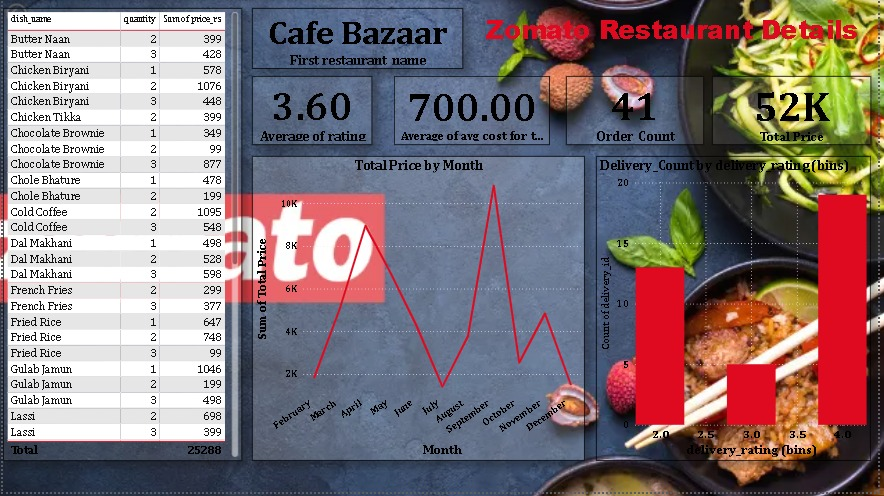

Layout of this report page (visuals, bound fields, positions):
{"tool":"powerbi","page":{"name":"Page 5","canvas":[1280,720],"ordinal":4},"visuals":[{"type":"actionButton","box":[0,0,100,40],"z":0},{"type":"card","fields":{"Values":["Min(zomato_restaurants.restaurant_name)"]},"box":[19.7,197.2,308.5,111.3],"z":1},{"type":"card","fields":{"Values":["CountNonNull(zomato_orders.order_id)"]},"box":[812.7,180.3,228.2,125.4],"z":2},{"type":"card","fields":{"Values":["Sum(zomato_orders_item.Total Price)"]},"box":[1040.8,173.2,212.7,135.2],"z":3},{"type":"card","fields":{"Values":["Avg(zomato_restaurants.rating)"]},"box":[328.2,191.5,209.9,119.7],"z":4},{"type":"card","fields":{"Values":["Avg(zomato_restaurants.avg_cost_for_two)"]},"box":[559.2,191.5,228.2,111.3],"z":5},{"type":"tableEx","fields":{"Values":["zomato_orders_item.dish_name","zomato_orders_item.quantity","Sum(zomato_orders_item.price_rs)"]},"box":[0,325.4,349.3,349.3],"z":6},{"type":"lineChart","fields":{"Category":["zomato_orders.order_date.Variation.Date Hierarchy.Month"],"Y":["Sum(zomato_orders_item.Total Price)"]},"box":[364.8,325.4,502.8,349.3],"z":7},{"type":"columnChart","fields":{"Category":["zomato_delivery.delivery_rating (bins)"],"Y":["CountNonNull(zomato_delivery.delivery_id)"]},"box":[867.6,325.4,412.7,349.3],"z":8},{"type":"textbox","box":[19.7,11.3,1202.8,78.9],"z":9}]}

Visuals, with their boxes in screenshot pixels (x1, y1, x2, y2), scaled from the page's 1280x720 canvas onto the 884x496 screenshot:
actionButton: bbox=(0, 0, 69, 28)
card - Min(zomato_restaurants.restaurant_name): bbox=(14, 136, 227, 213)
card - CountNonNull(zomato_orders.order_id): bbox=(561, 124, 719, 211)
card - Sum(zomato_orders_item.Total Price): bbox=(719, 119, 866, 212)
card - Avg(zomato_restaurants.rating): bbox=(227, 132, 372, 214)
card - Avg(zomato_restaurants.avg_cost_for_two): bbox=(386, 132, 544, 209)
tableEx - zomato_orders_item.dish_name x zomato_orders_item.quantity: bbox=(0, 224, 241, 465)
lineChart - zomato_orders.order_date.Variation.Date Hierarchy.Month x Sum(zomato_orders_item.Total Price): bbox=(252, 224, 599, 465)
columnChart - zomato_delivery.delivery_rating (bins) x CountNonNull(zomato_delivery.delivery_id): bbox=(599, 224, 883, 465)
textbox: bbox=(14, 8, 844, 62)
